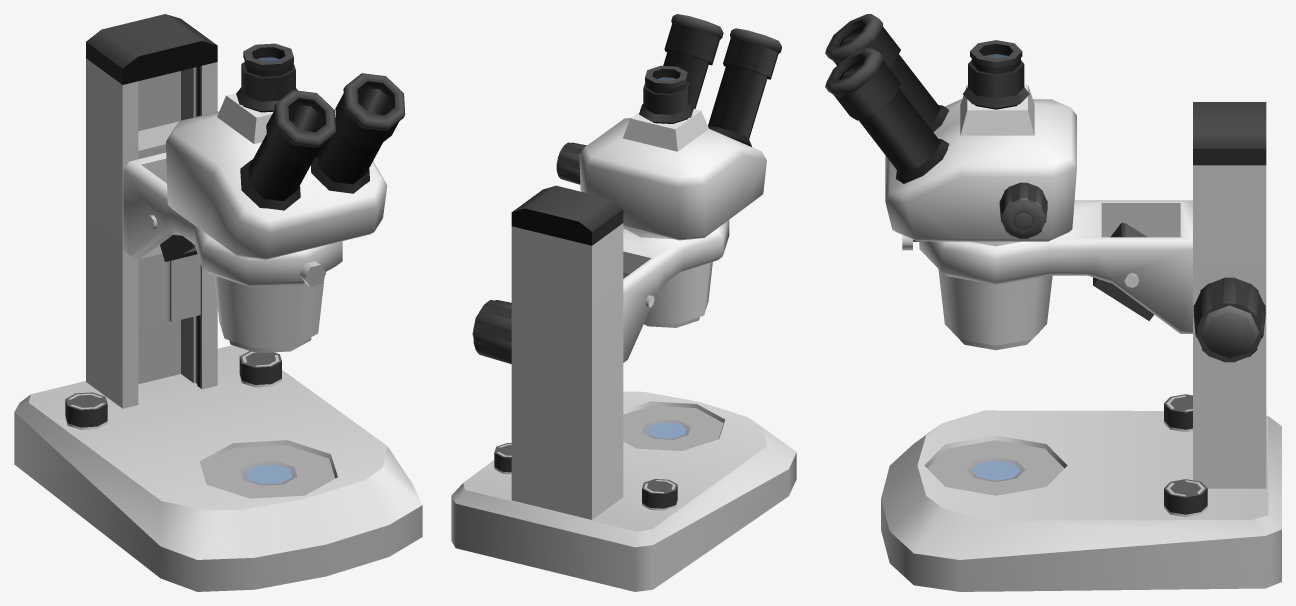
Rendered from CR_sci_Microscope_001.FBX.
3 renders of one model, left to right at view 1: azimuth 30°, elevation 25°; view 2: azimuth 150°, elevation 25°; view 3: azimuth 270°, elevation 25°, orthographic. The views are drawn at different scales.
Visible parts, largest first — view 1: CR_sci_Microscope_001; view 2: CR_sci_Microscope_001; view 3: CR_sci_Microscope_001.
Part boxes in pixels (<box>): CR_sci_Microscope_001: <box>14,14,422,591</box>; CR_sci_Microscope_001: <box>451,14,796,591</box>; CR_sci_Microscope_001: <box>825,14,1281,591</box>.
Size of the model in its own units: 21.21 by 39.79 by 33.26.
